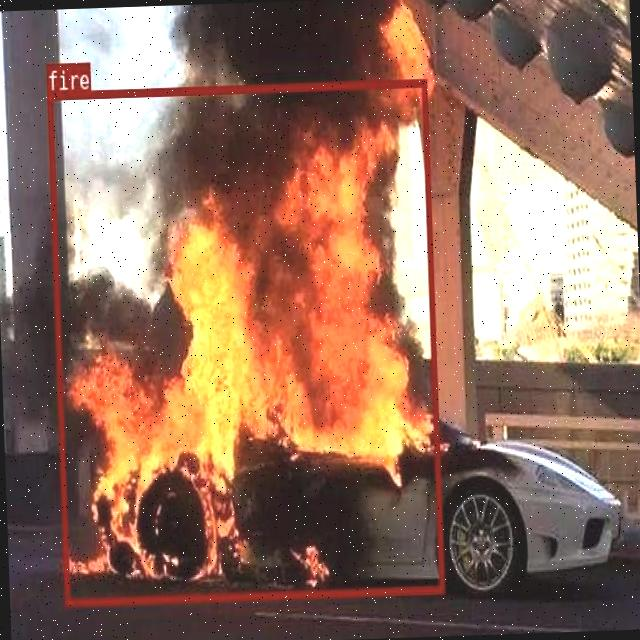fire: (46, 78, 443, 604)
